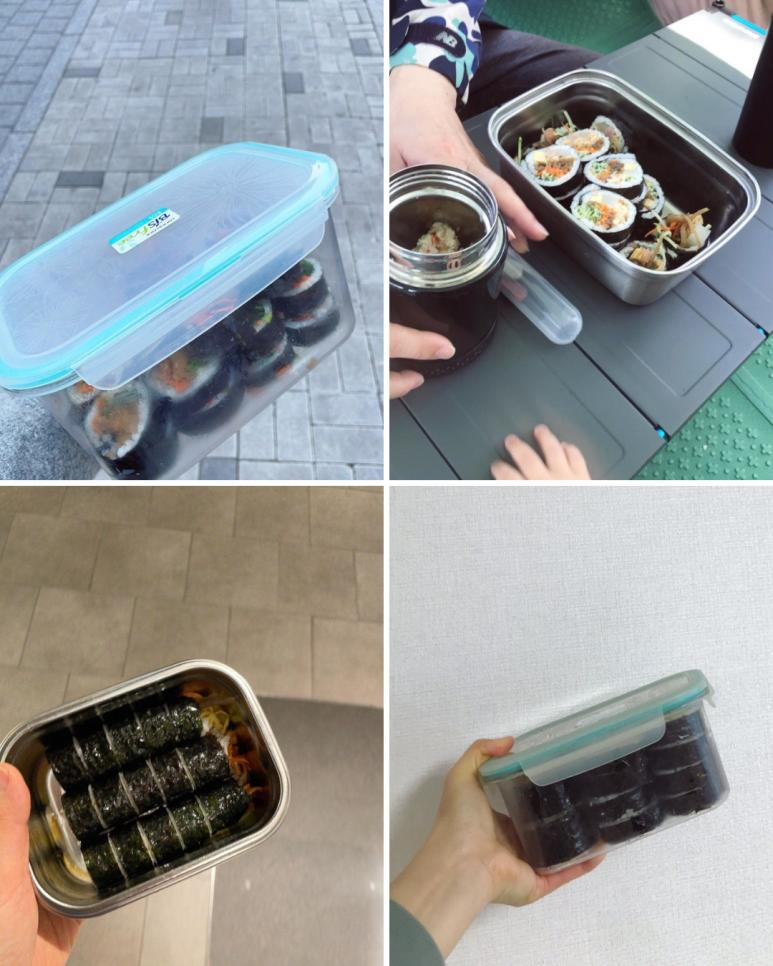Lunch Box: (0, 660, 289, 916), (488, 68, 760, 304)
